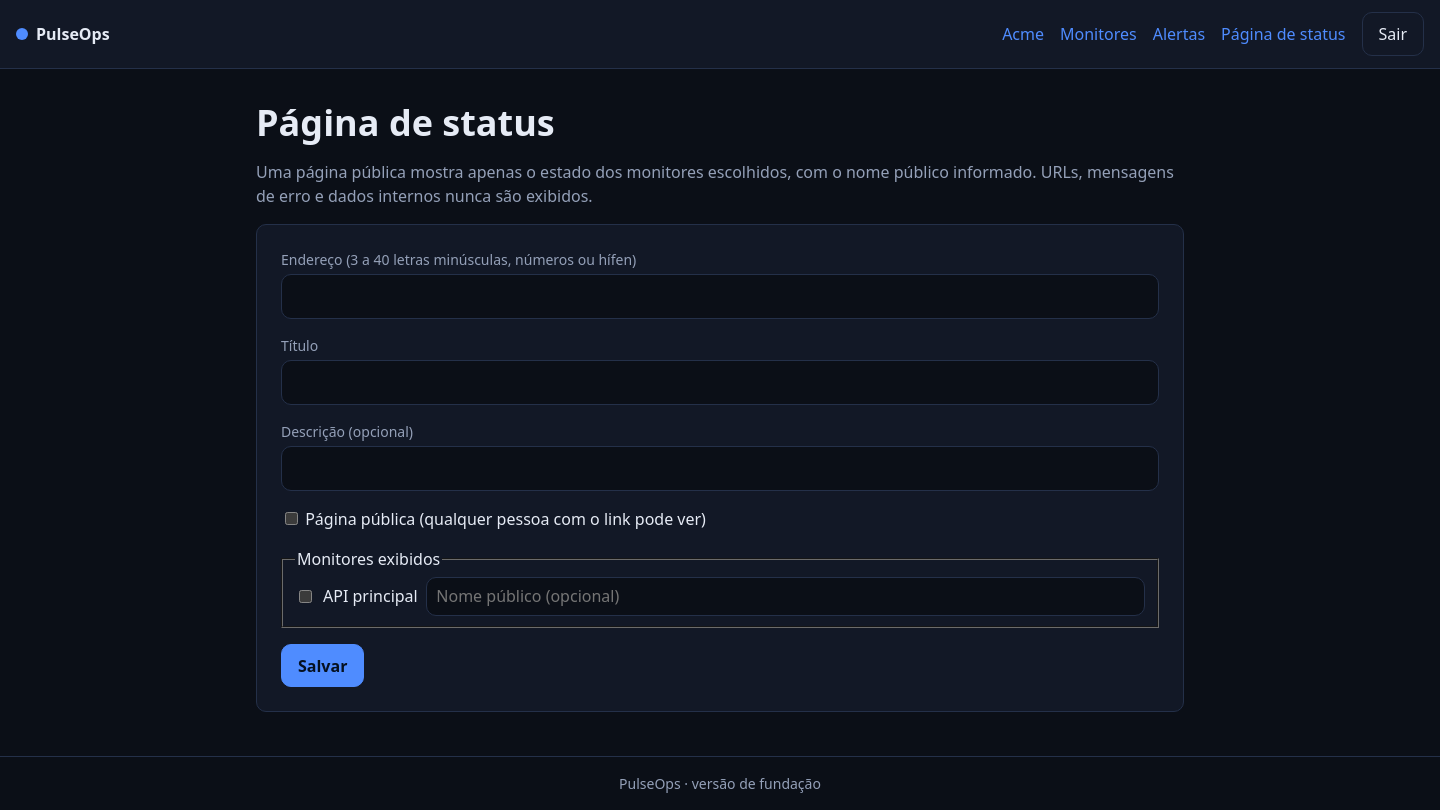
páginas de alertas e status › StatusSettingsPage › valida o endereço antes de enviar
In the field labelled "Endereço (3 a 40 letras minúsculas, números ou hífen)": coordinates (720, 296) [281,274,1159,319], type "ADMIN"
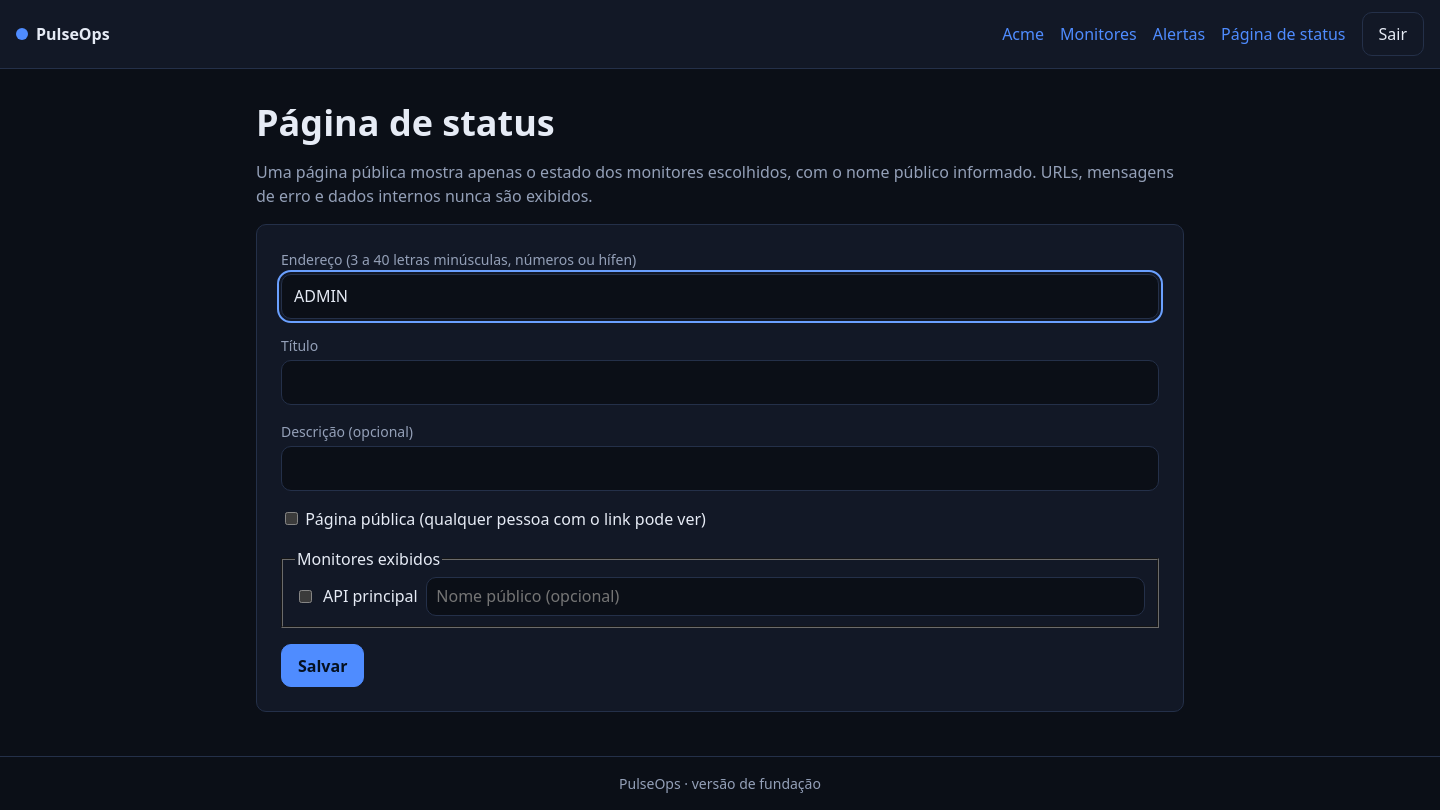
In the field labelled "Título": coordinates (720, 383) [281,360,1159,405], type "Meu status"
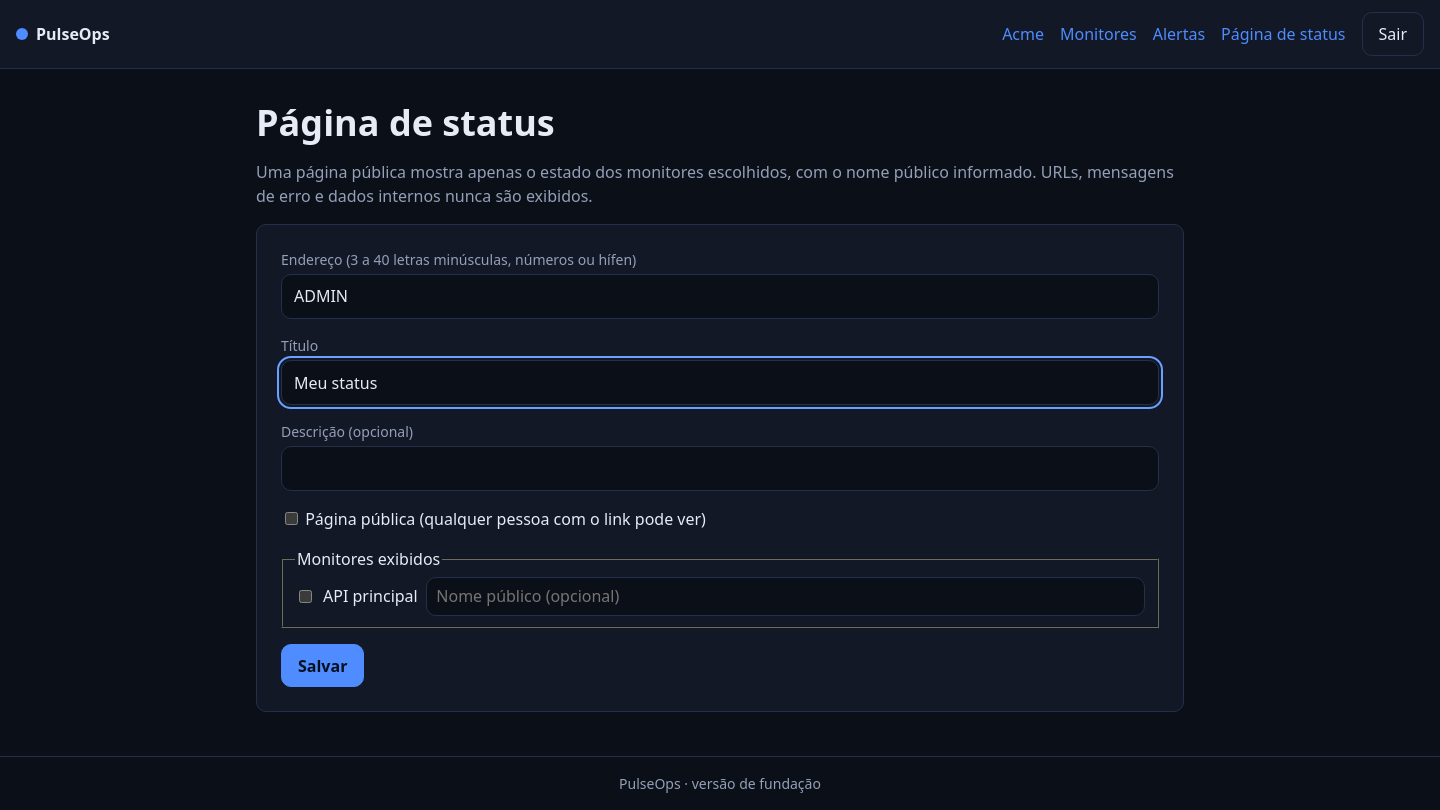
Click the button "Salvar": coordinates (323, 666) [281,644,364,687]
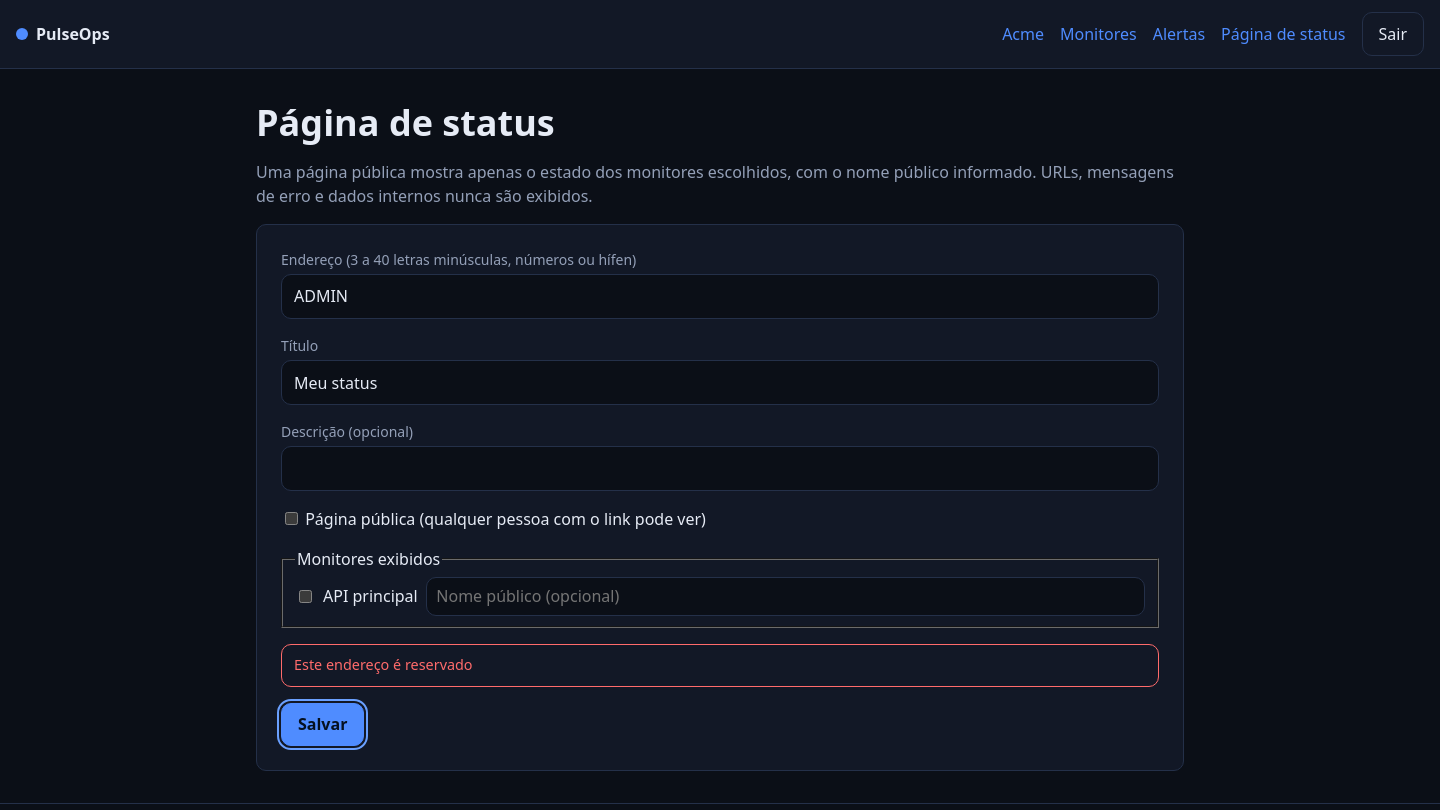
expect the message shows "reservado": met, box [294,655,473,674]
